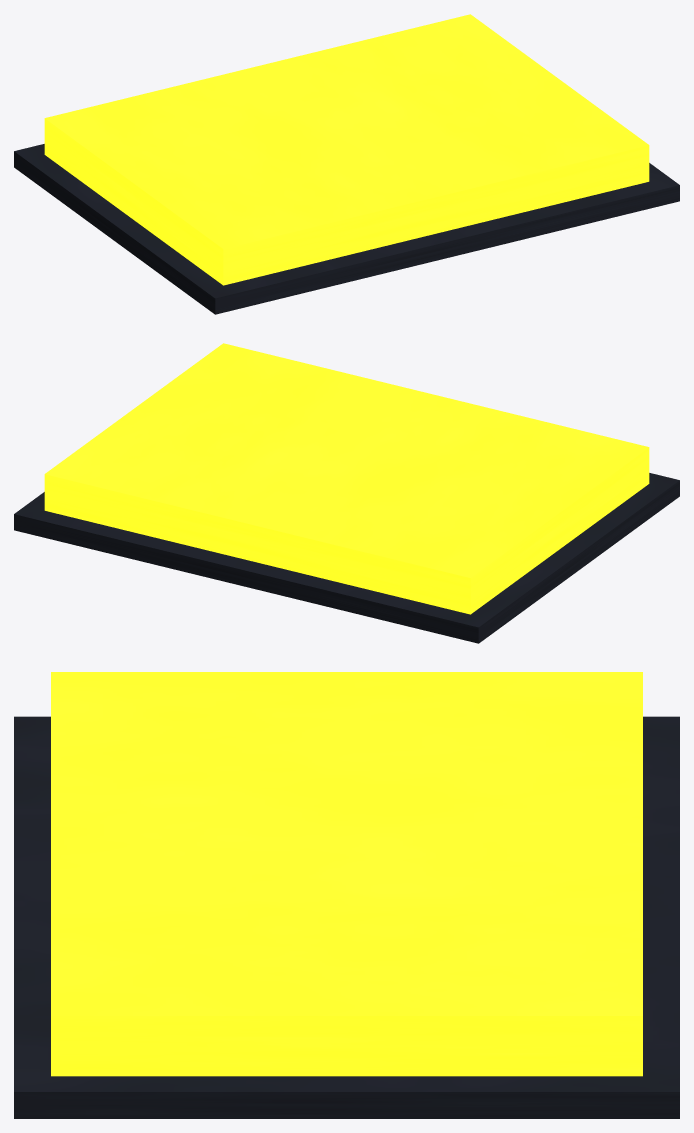
Rendered from glow_floor_panel.glb.
The picture shows the model from 3 angles, top to bottom: view 1: azimuth 30°, elevation 25°; view 2: azimuth 150°, elevation 25°; view 3: azimuth 270°, elevation 25°; orthographic projection. The views are drawn at different scales.
Parts seen in each view (by area): view 1: glow_floor_panel; view 2: glow_floor_panel; view 3: glow_floor_panel.
Boxes of the visible parts, <box> form: glow_floor_panel: <box>14,14,679,314</box>; glow_floor_panel: <box>14,343,679,643</box>; glow_floor_panel: <box>14,672,679,1118</box>.
Bounding box in the file's own units: 2.4 × 0.26 × 1.8.
Materials: 1 (1 with a texture image).
